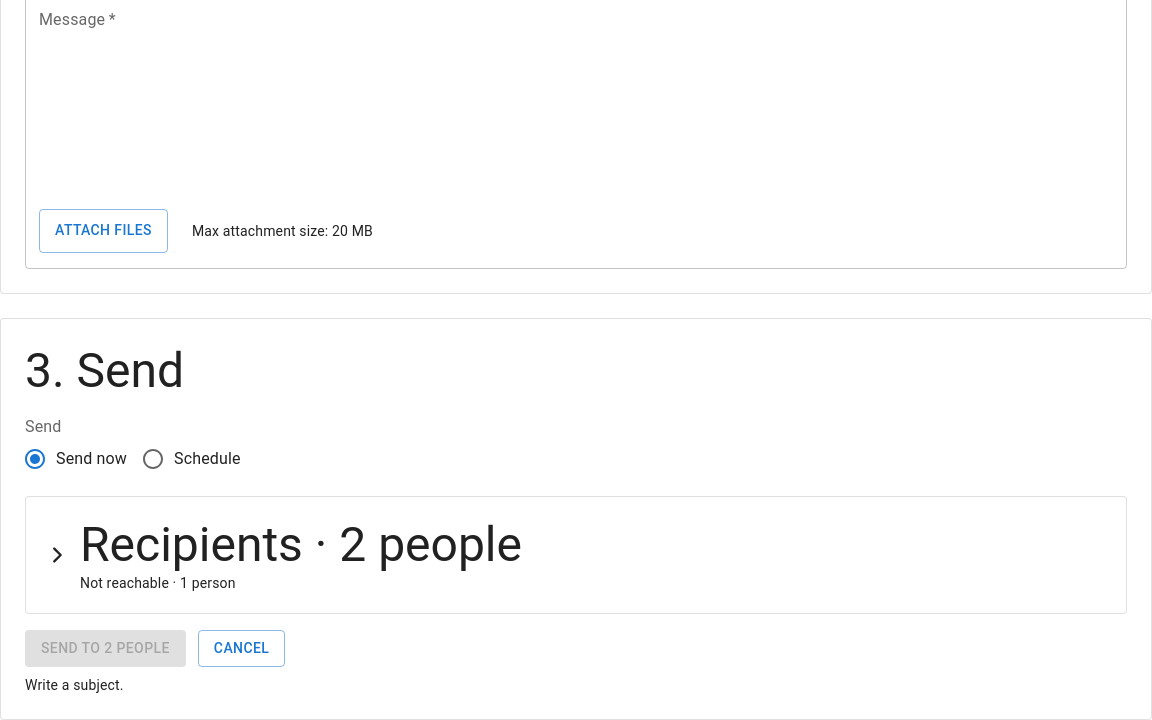
composing a message › opens to the exact list of people it goes to, and who it cannot reach
(page scrolled)
Click the button with test id "compose-recipients-section-toggle" at (301,545), box [26, 497, 1126, 613]
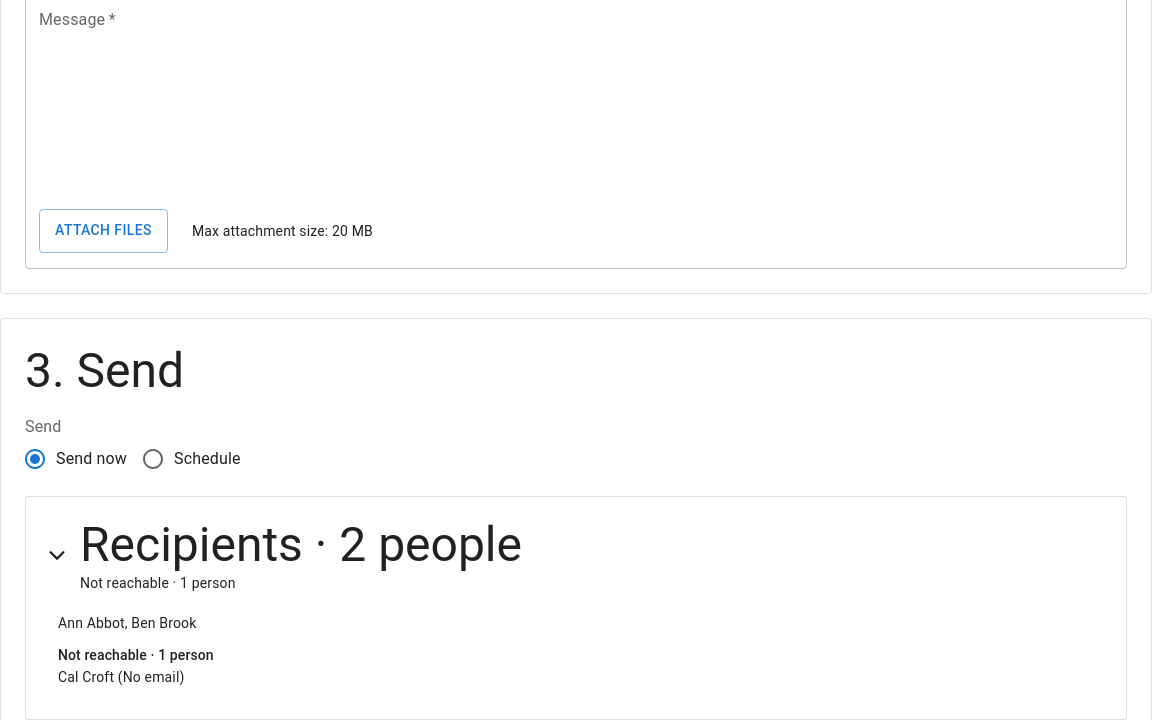
Expected: the text with test id "compose-recipients" reads "Ann Abbot, Ben Brook", [58, 615, 196, 631]
Expected: the element with test id "compose-unreachable" shows "Cal Croft (No email)", [58, 669, 184, 685]
